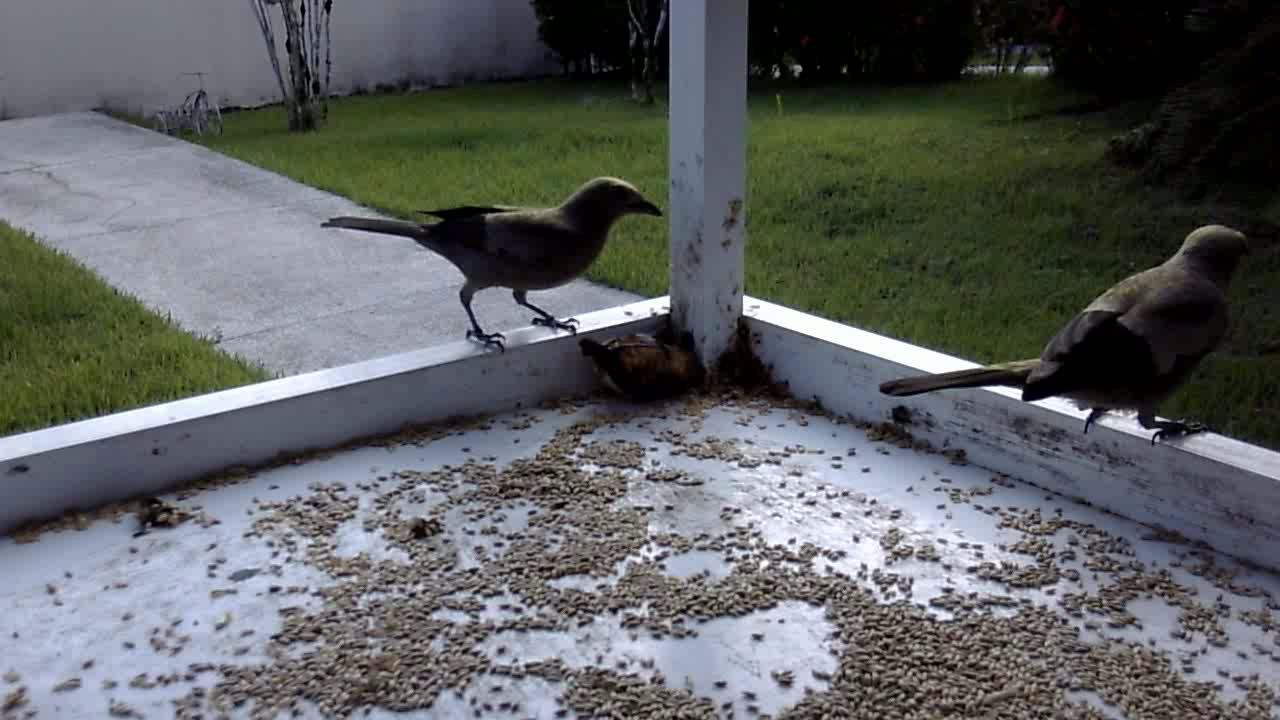sanhaco_do_coqueiro: (881, 222, 1256, 450), (320, 176, 660, 362)
